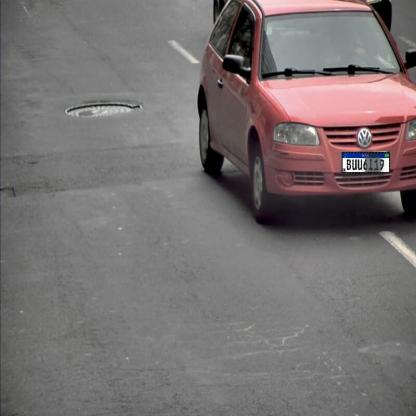PlacaM: (342, 152, 390, 173)
